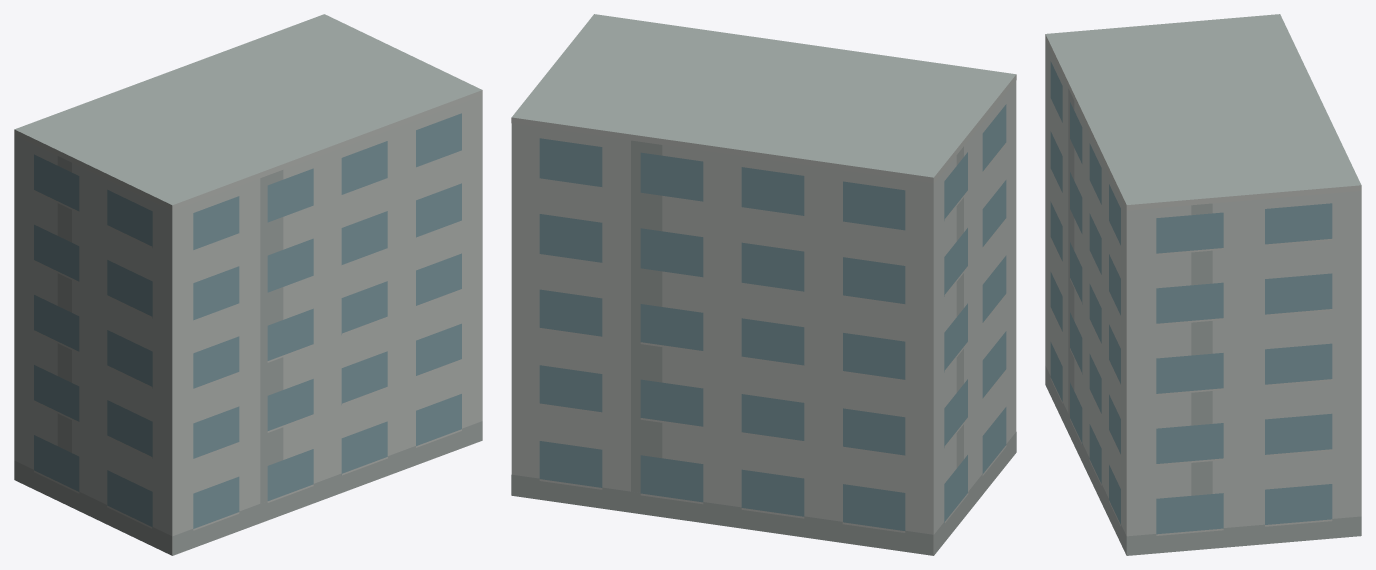
The model's file is residential-d3ef7e8e-a390-4d54-98ce-b2f3e6ccfb6c.glb.
3 renders of one model, left to right at view 1: azimuth 30°, elevation 25°; view 2: azimuth 150°, elevation 25°; view 3: azimuth 270°, elevation 25°, orthographic. The views are drawn at different scales.
Visible parts, largest first — view 1: residential-d3ef7e8e-a390-4d54-98ce-b2f3e6ccfb6c.tmp; view 2: residential-d3ef7e8e-a390-4d54-98ce-b2f3e6ccfb6c.tmp; view 3: residential-d3ef7e8e-a390-4d54-98ce-b2f3e6ccfb6c.tmp.
Part boxes in pixels (box(x1,y1,x2,y2)): residential-d3ef7e8e-a390-4d54-98ce-b2f3e6ccfb6c.tmp: box(14, 14, 482, 555); residential-d3ef7e8e-a390-4d54-98ce-b2f3e6ccfb6c.tmp: box(511, 14, 1016, 555); residential-d3ef7e8e-a390-4d54-98ce-b2f3e6ccfb6c.tmp: box(1045, 14, 1361, 555).
Bounding box in the file's own units: 17.83 × 15.25 × 12.47.
